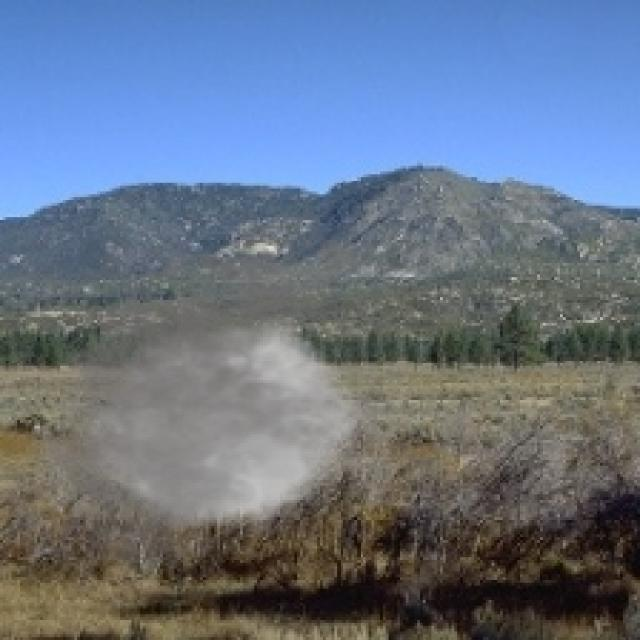smoke: (12, 226, 434, 583)
